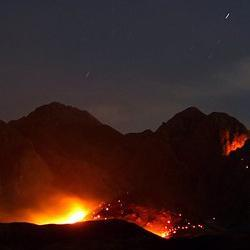fire: (57, 203, 86, 223)
